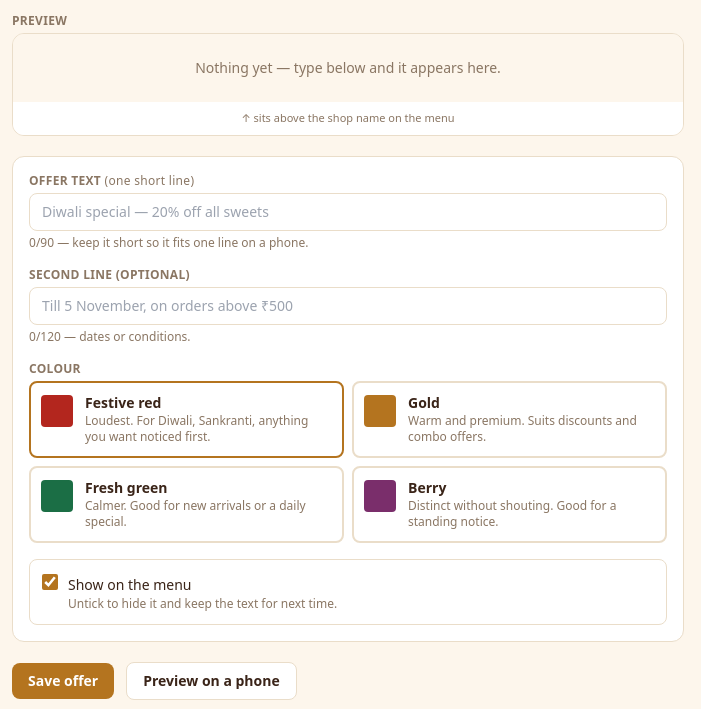
it: the length counters › counts what has been typed against the limit
Expected: the text "0/90 — keep it short so it fits one line on a phone." is shown, [29,234,308,250]
Type "Diwali" into the field labelled "Offer text (one short line)" at coordinates (348, 212), box [29,192,667,230]
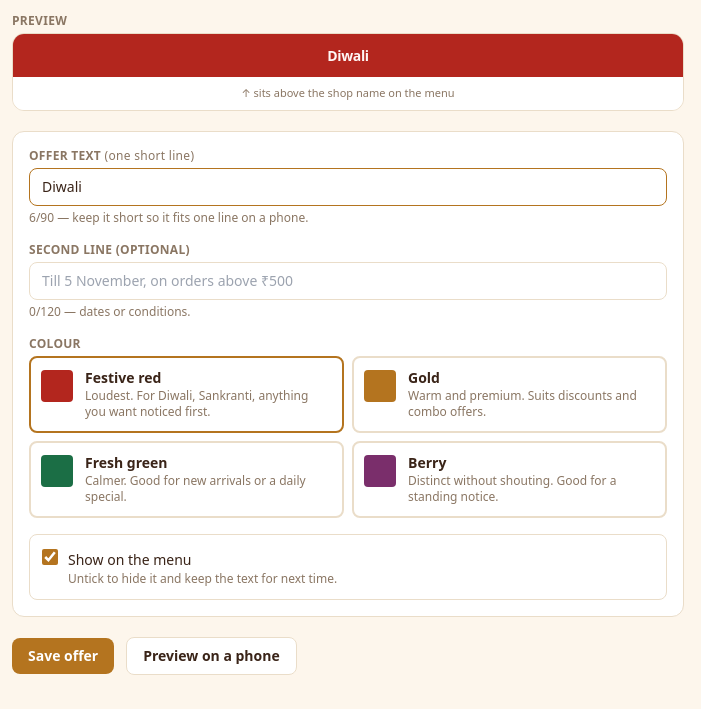
Expected: the text "6/90 — keep it short so it fits one line on a phone." is shown, [29,209,308,226]
